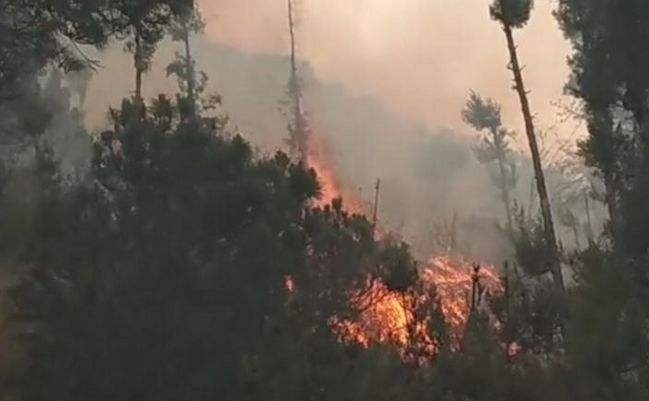fire: (331, 250, 507, 359)
